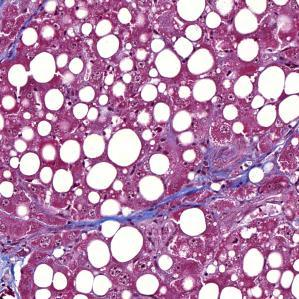fibrosis: (164, 167, 250, 210)
